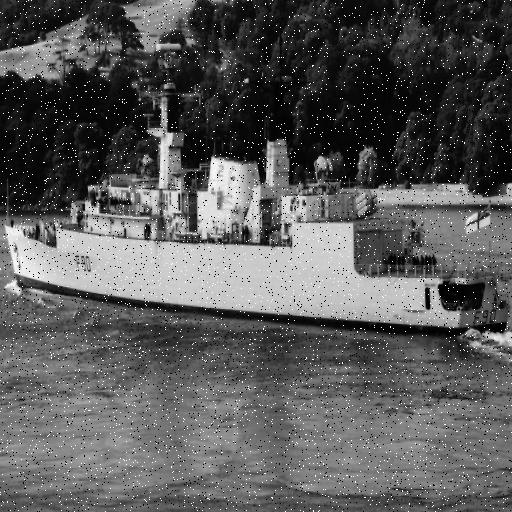Fragata: (1, 24, 512, 340)
